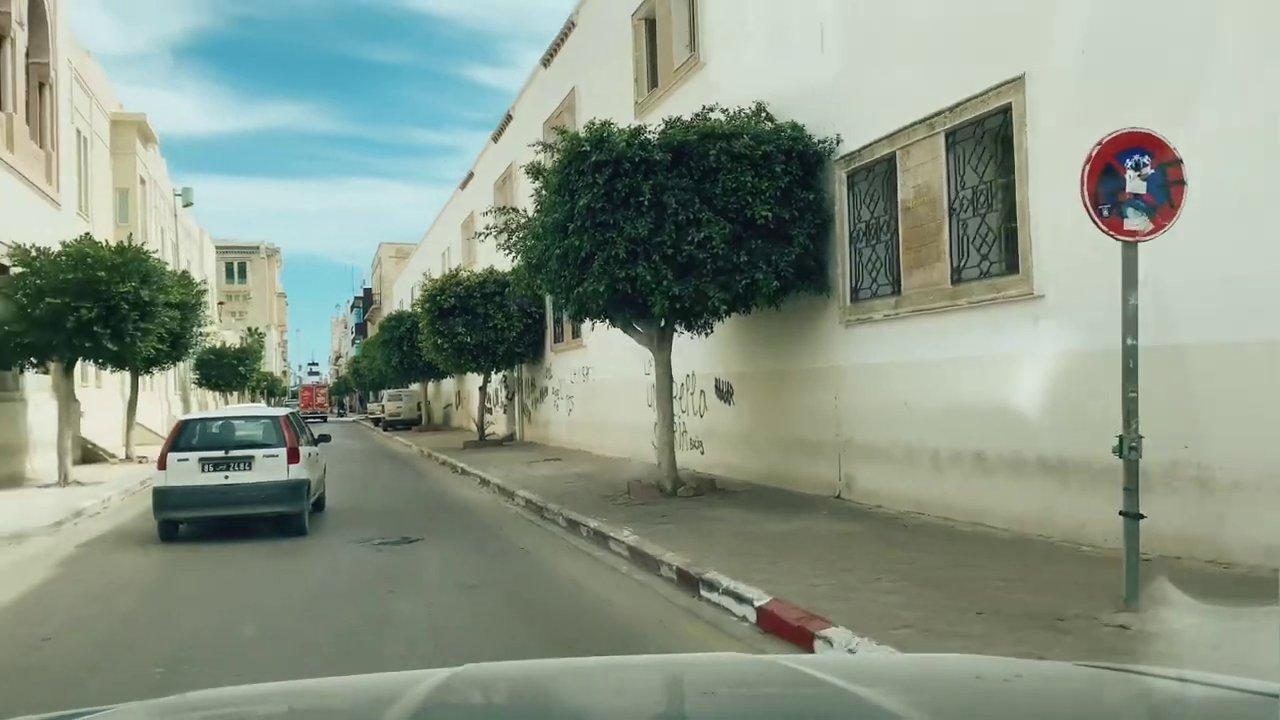no stopping: (1081, 124, 1185, 246)
